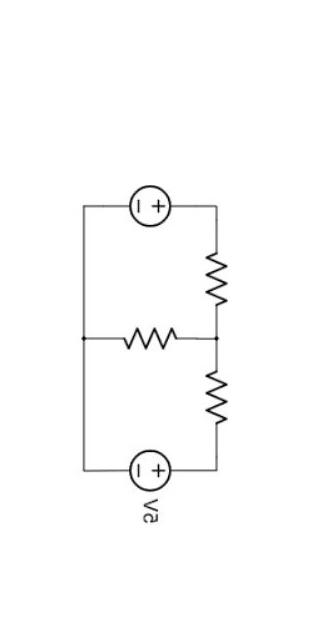resistor: (186, 337, 243, 445), (186, 233, 243, 322), (104, 303, 188, 355)
